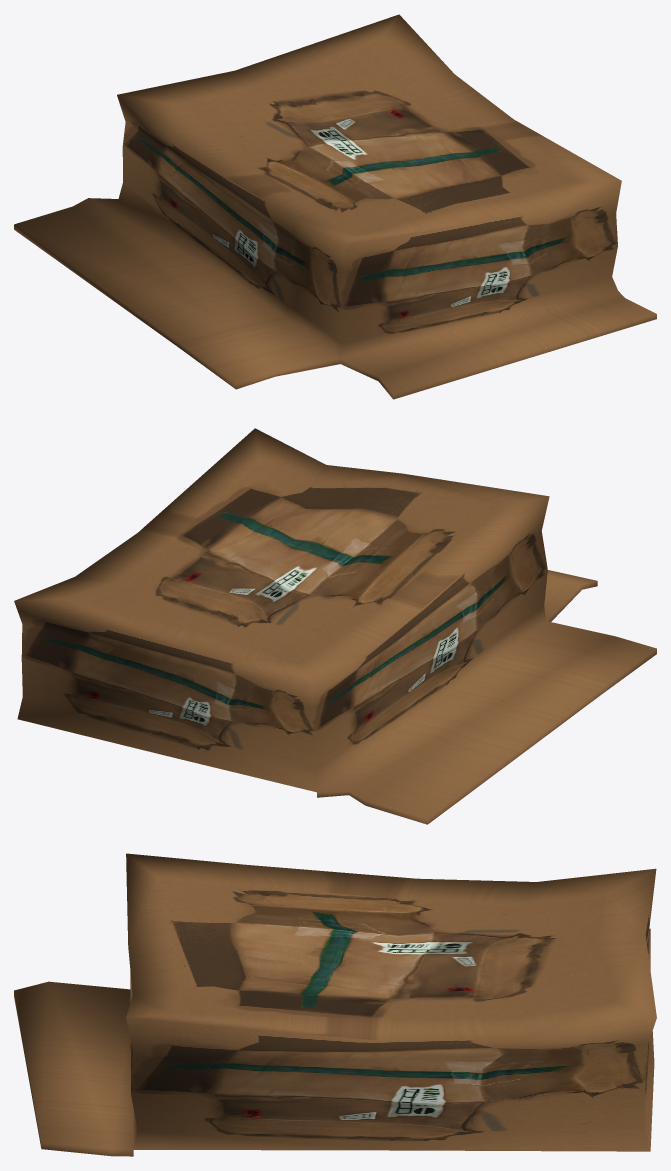
Rendered from bed_homeless.FBX.
The picture shows the model from 3 angles, top to bottom: view 1: azimuth 30°, elevation 25°; view 2: azimuth 150°, elevation 25°; view 3: azimuth 270°, elevation 25°; orthographic projection. The views are drawn at different scales.
Parts seen in each view (by area): view 1: bed_homeless; view 2: bed_homeless; view 3: bed_homeless.
Boxes of the visible parts, x1,y1,x2,y2 form: bed_homeless: [14, 14, 656, 399]; bed_homeless: [14, 428, 656, 824]; bed_homeless: [14, 853, 656, 1156].
Bounding box in the file's own units: 5.63 × 1.7 × 6.85.
